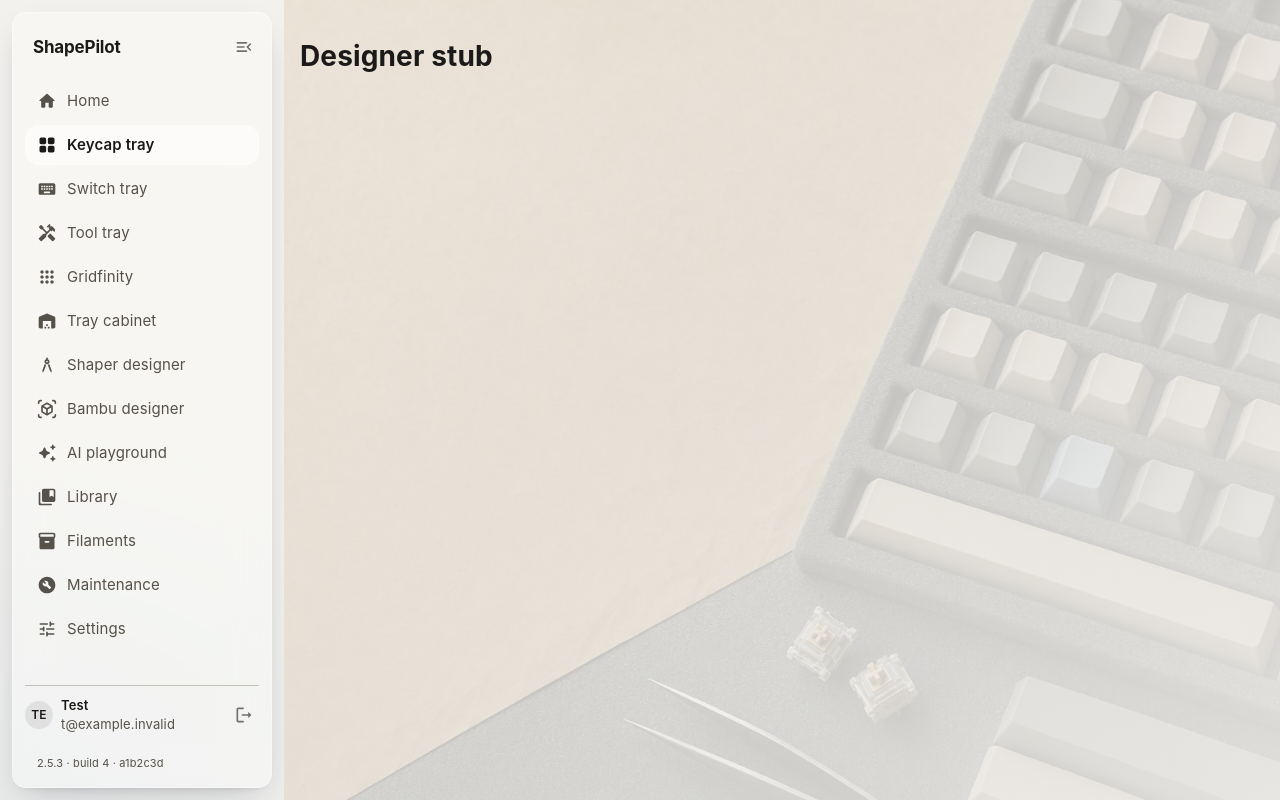
Test: navigating changes the URL and the rendered section
Click the link "Settings": click(81, 629) [37,619,126,639]
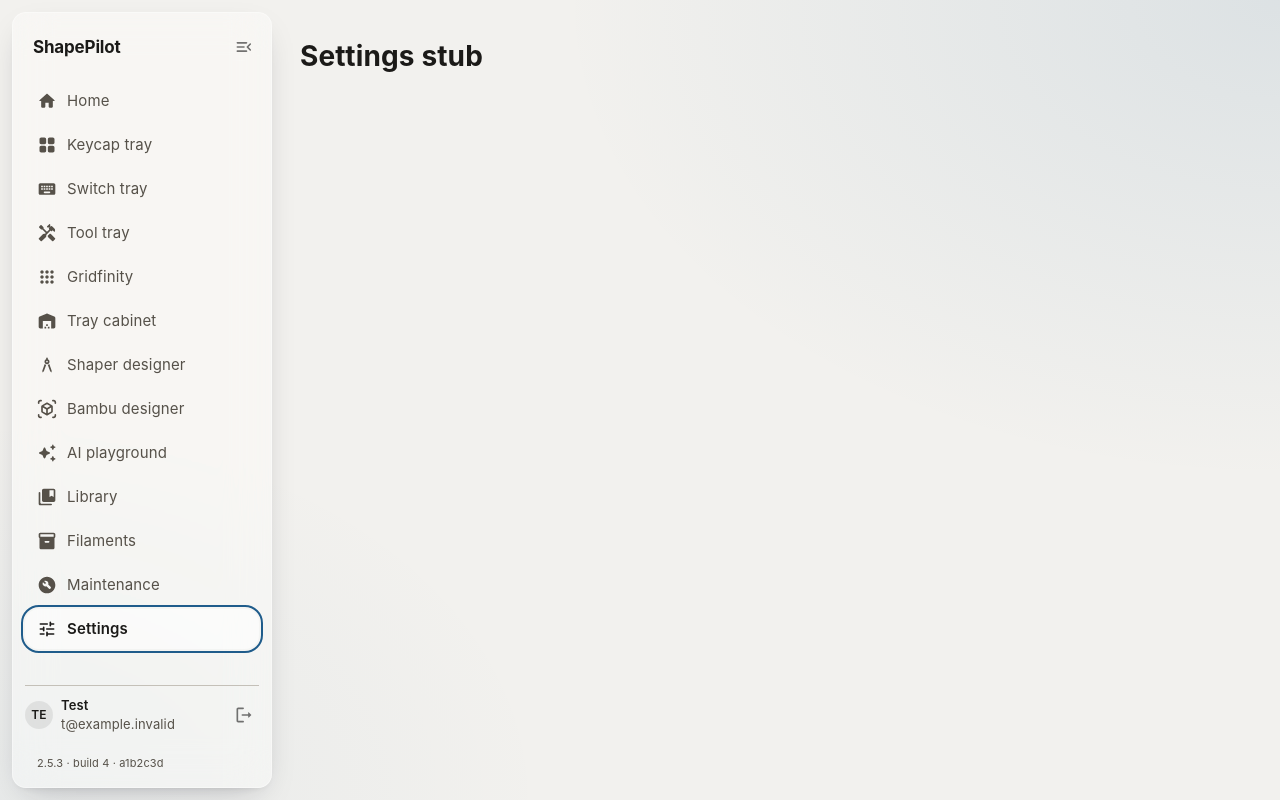
Expected: the heading "Settings stub" is shown, [300,39,483,73]
Expected: the heading "Designer stub" is gone
